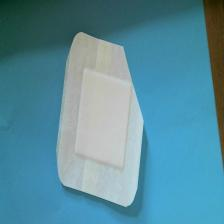Cut: (56, 28, 149, 212)
